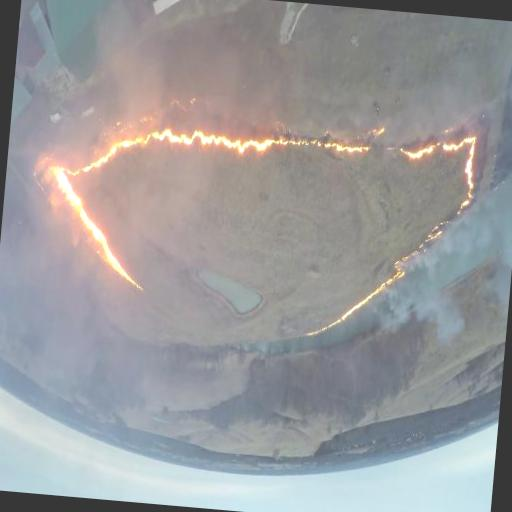fire: (40, 80, 483, 340)
smoke: (0, 0, 176, 421), (286, 47, 512, 158), (381, 177, 512, 342)
